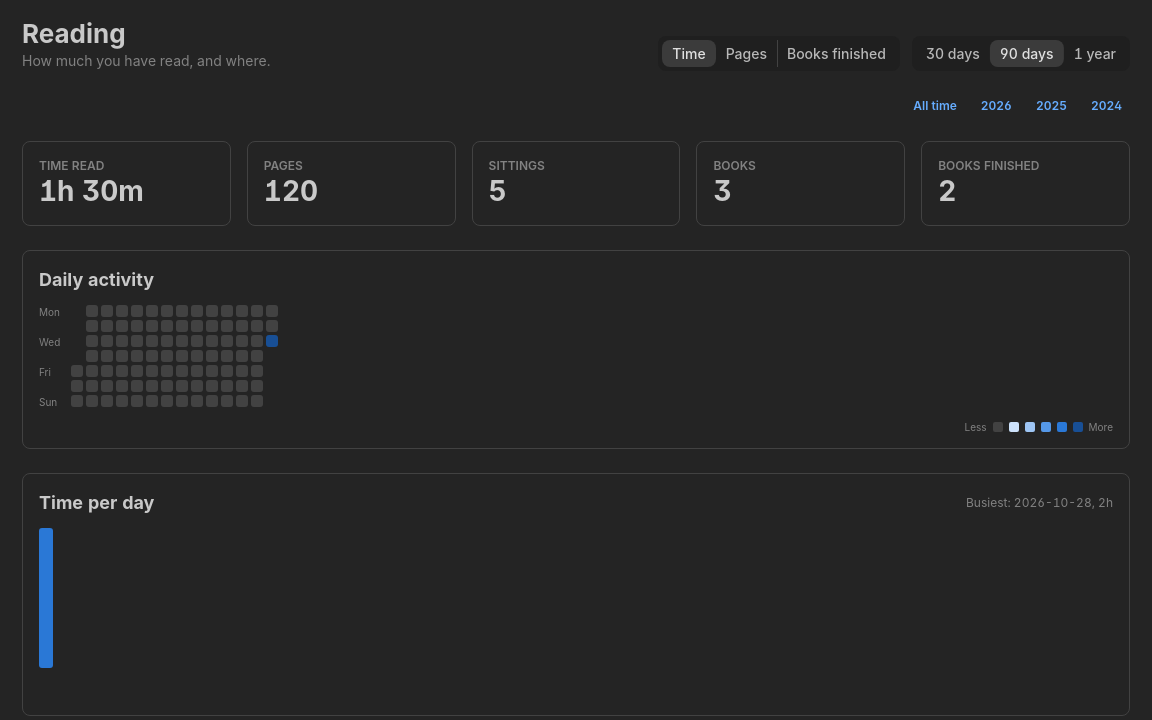
Test: ReadingStats › asks for a whole calendar year when one is picked
Expected: the heading "Daily activity" is shown, [39,267,154,293]
Step 1. Click the button "2025" → [1051, 106], box [1028,95,1075,117]
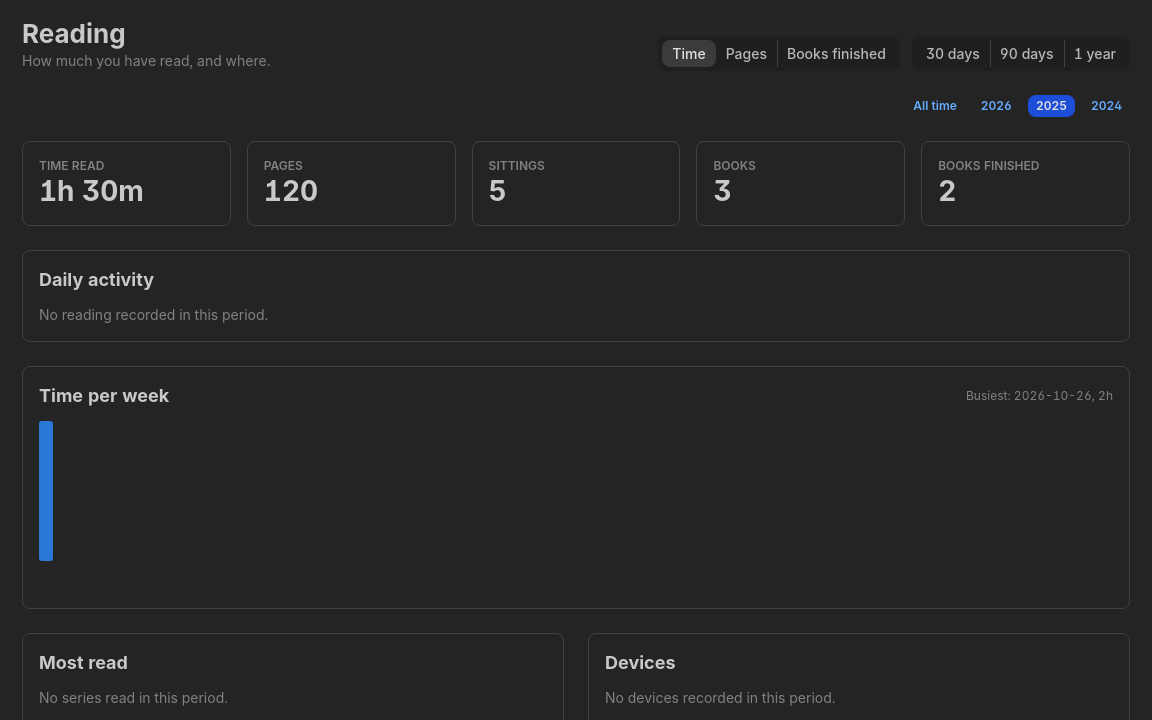
Result: the heading "Time per week" is shown at [39,383,169,409]
